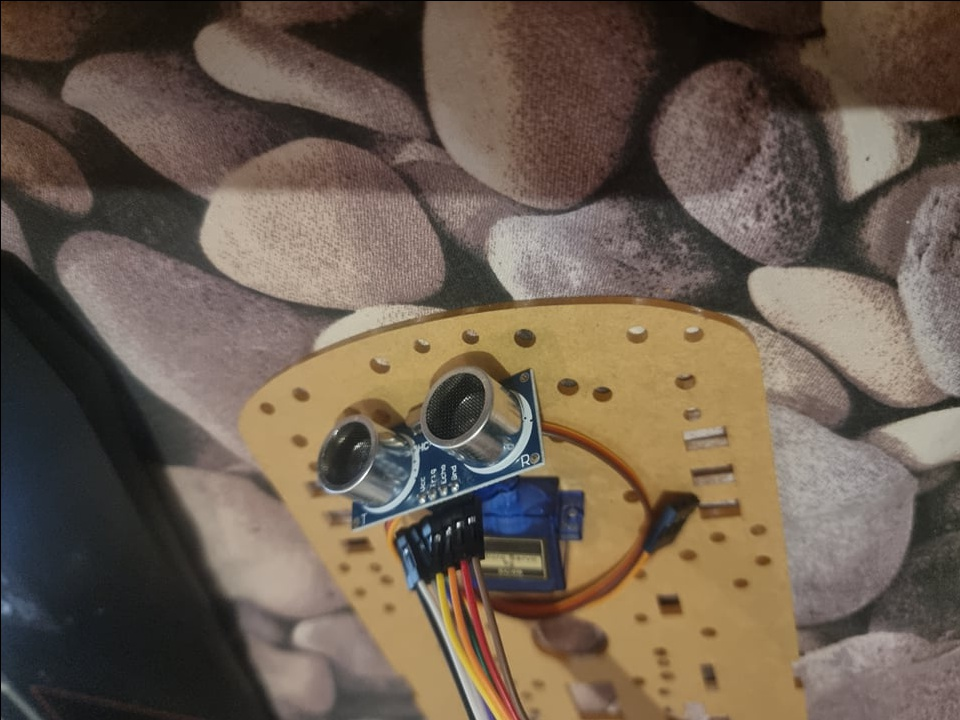SENSOR: (314, 360, 545, 531)
